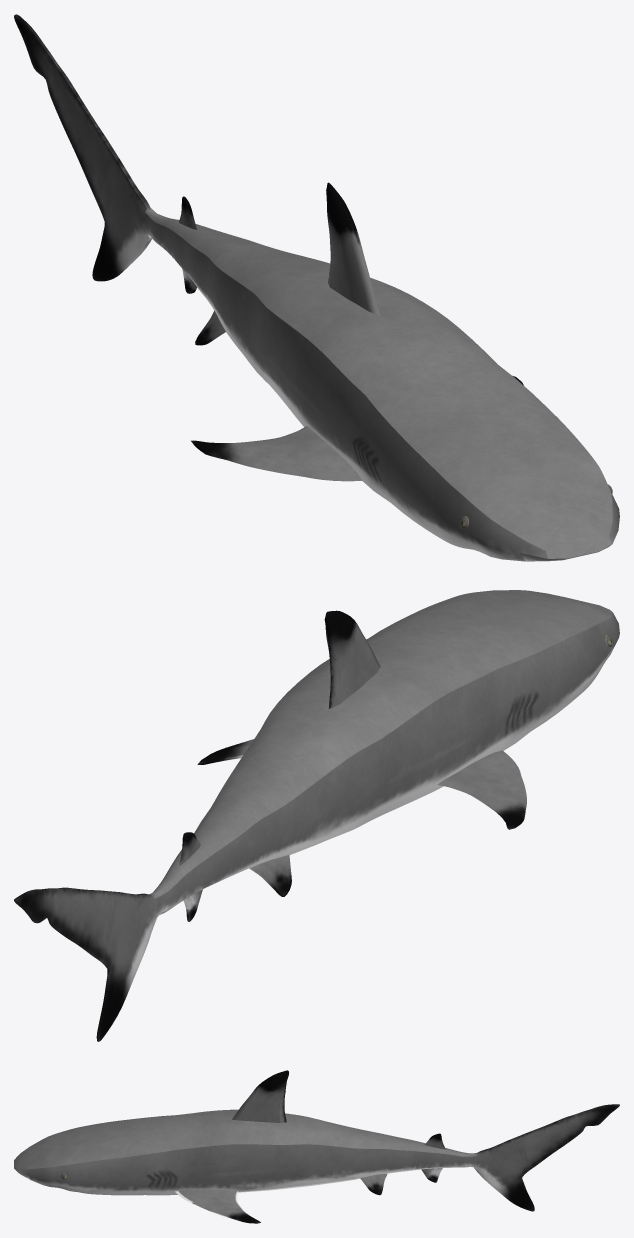
Rendered from shark_blacktip.glb.
The picture shows the model from 3 angles, top to bottom: view 1: azimuth 30°, elevation 25°; view 2: azimuth 150°, elevation 25°; view 3: azimuth 270°, elevation 25°; orthographic projection. The views are drawn at different scales.
Parts seen in each view (by area): view 1: blacktip; view 2: blacktip; view 3: blacktip.
Part boxes in pixels (x1,y1,x2,y2): blacktip: [14, 14, 619, 561]; blacktip: [14, 590, 619, 1041]; blacktip: [14, 1070, 619, 1223].
Bounding box in the file's own units: 3.94 × 3.14 × 12.21.
1 material, 1 textured.
